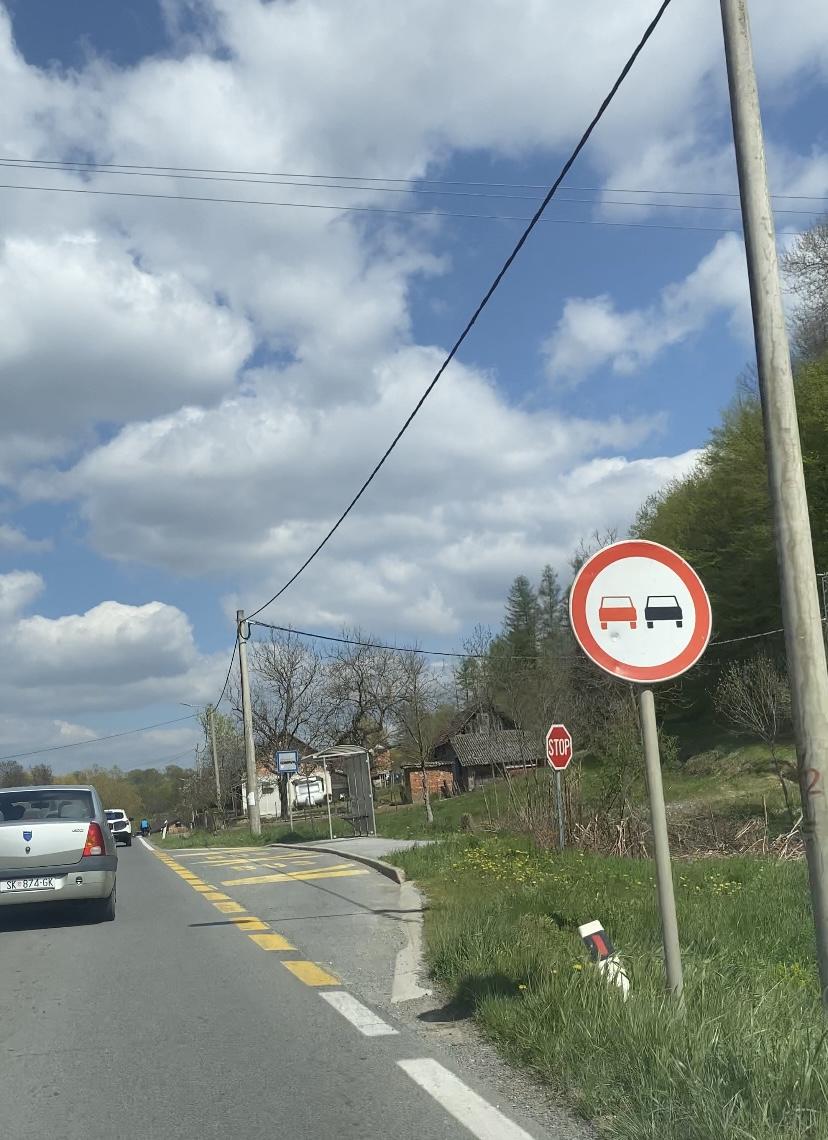Obavezno zaustavljanje: (545, 724, 573, 770)
Zabrana pretjecanja: (569, 539, 712, 682)
